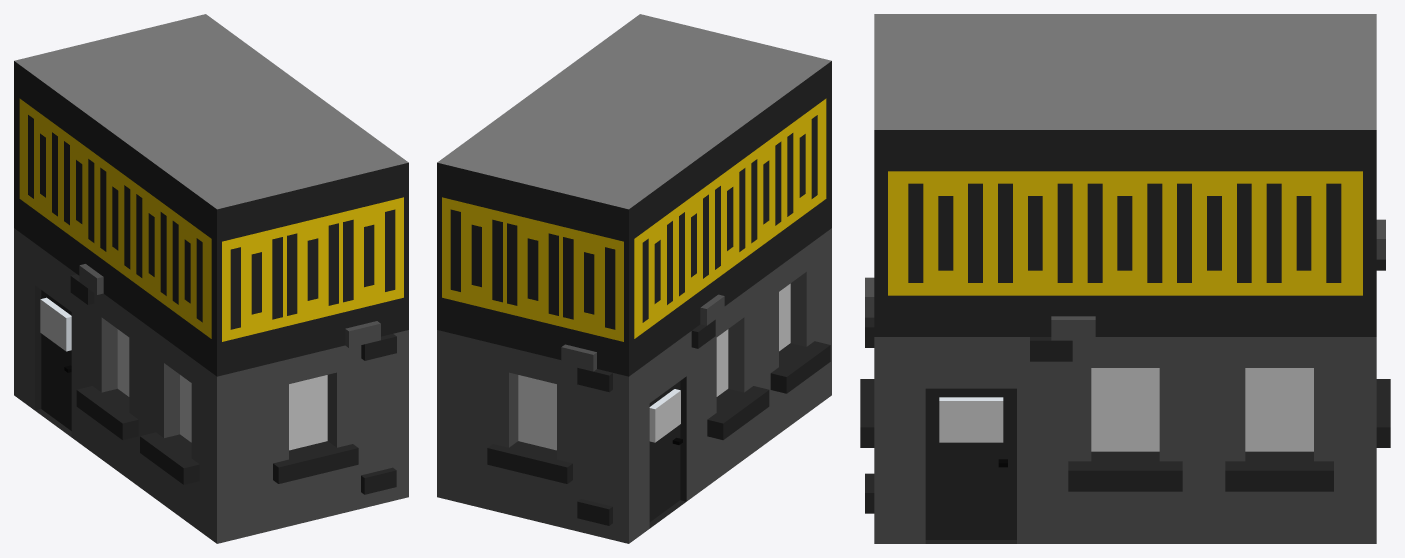
Rendered from Edificio 20.fbx.
3 renders of one model, left to right at view 1: azimuth 30°, elevation 25°; view 2: azimuth 150°, elevation 25°; view 3: azimuth 270°, elevation 25°, orthographic. The views are drawn at different scales.
Parts seen in each view (by area): view 1: Pared 2 [4050], Pared 1 [4047], [4064]; view 2: Pared 2 [4050], Pared 1 [4044], [4064]; view 3: Pared 2 [4053], [4064], Pared 1 [4047], Pared 1 [4044].
Boxes of the visible parts, <box> form: Pared 2 [4050]: <box>14,61,216,543</box>; Pared 1 [4047]: <box>217,162,408,543</box>; [4064]: <box>14,14,408,209</box>; Pared 2 [4050]: <box>629,61,831,543</box>; Pared 1 [4044]: <box>437,162,628,543</box>; [4064]: <box>437,14,831,209</box>; Pared 2 [4053]: <box>874,130,1376,543</box>; [4064]: <box>874,14,1376,129</box>; Pared 1 [4047]: <box>860,277,874,513</box>; Pared 1 [4044]: <box>1376,219,1390,447</box>.
Size of the model in its own units: 276 by 457 by 394.
